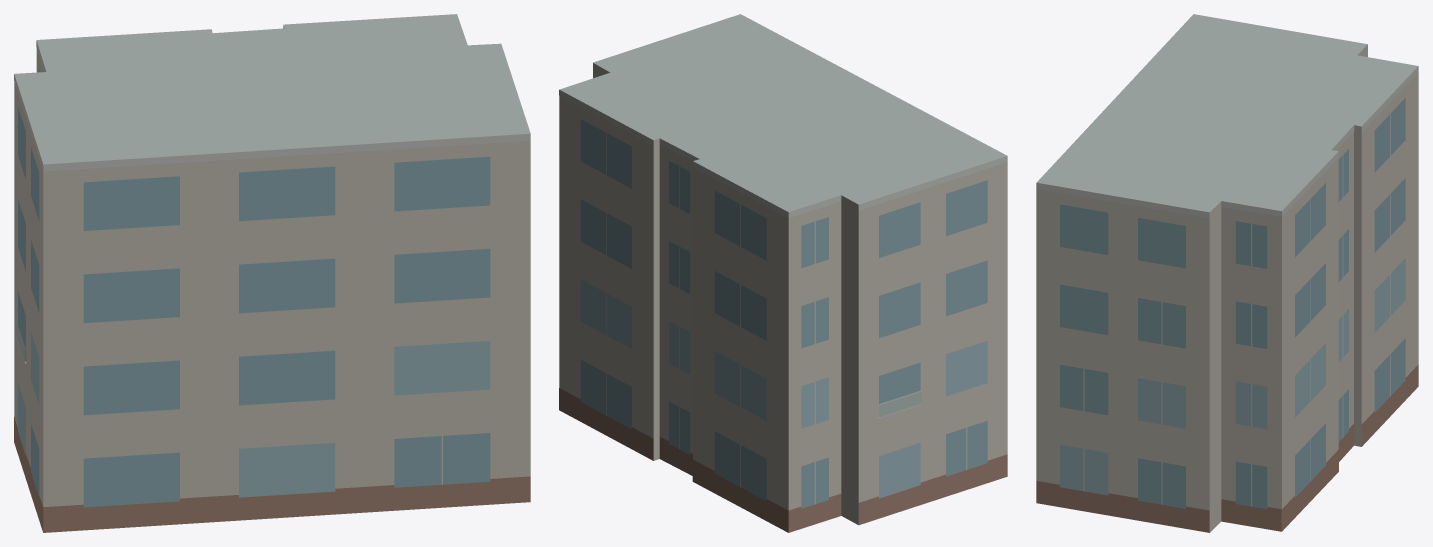
File: survey-upis-32502101.glb
The picture shows the model from 3 angles, left to right: view 1: azimuth 30°, elevation 25°; view 2: azimuth 150°, elevation 25°; view 3: azimuth 270°, elevation 25°; orthographic projection. The views are drawn at different scales.
Parts seen in each view (by area): view 1: survey-upis-32502101.tmp; view 2: survey-upis-32502101.tmp; view 3: survey-upis-32502101.tmp.
Part boxes in pixels (<box>): survey-upis-32502101.tmp: <box>14,14,530,532</box>; survey-upis-32502101.tmp: <box>559,14,1007,532</box>; survey-upis-32502101.tmp: <box>1036,14,1418,532</box>.
Size of the model in its own units: 17.27 by 13 by 14.05.
